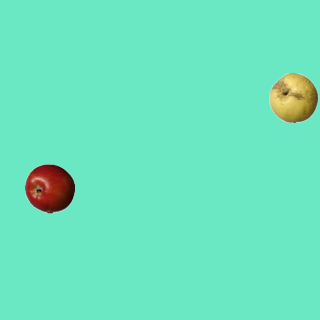Apple Braeburn: (24, 163, 74, 213)
Apple Golden 1: (268, 72, 318, 122)
